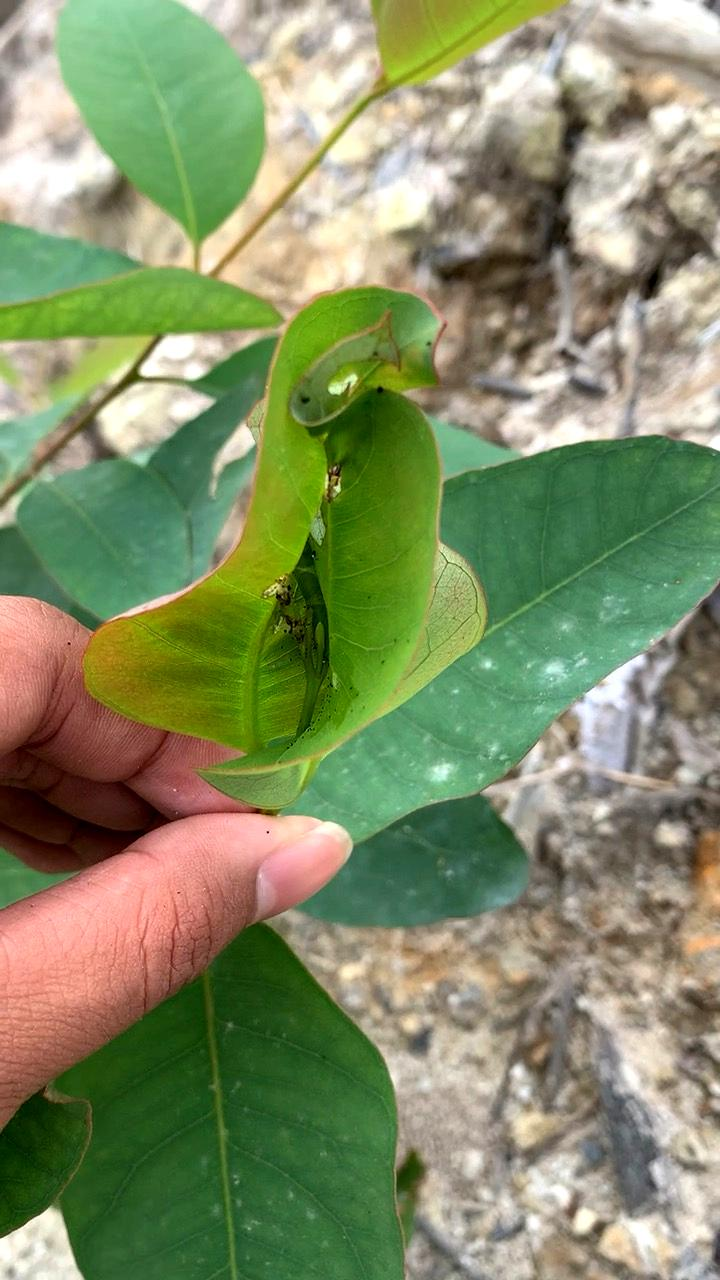Leaf Roller - Leaf: (71, 258, 505, 836)
